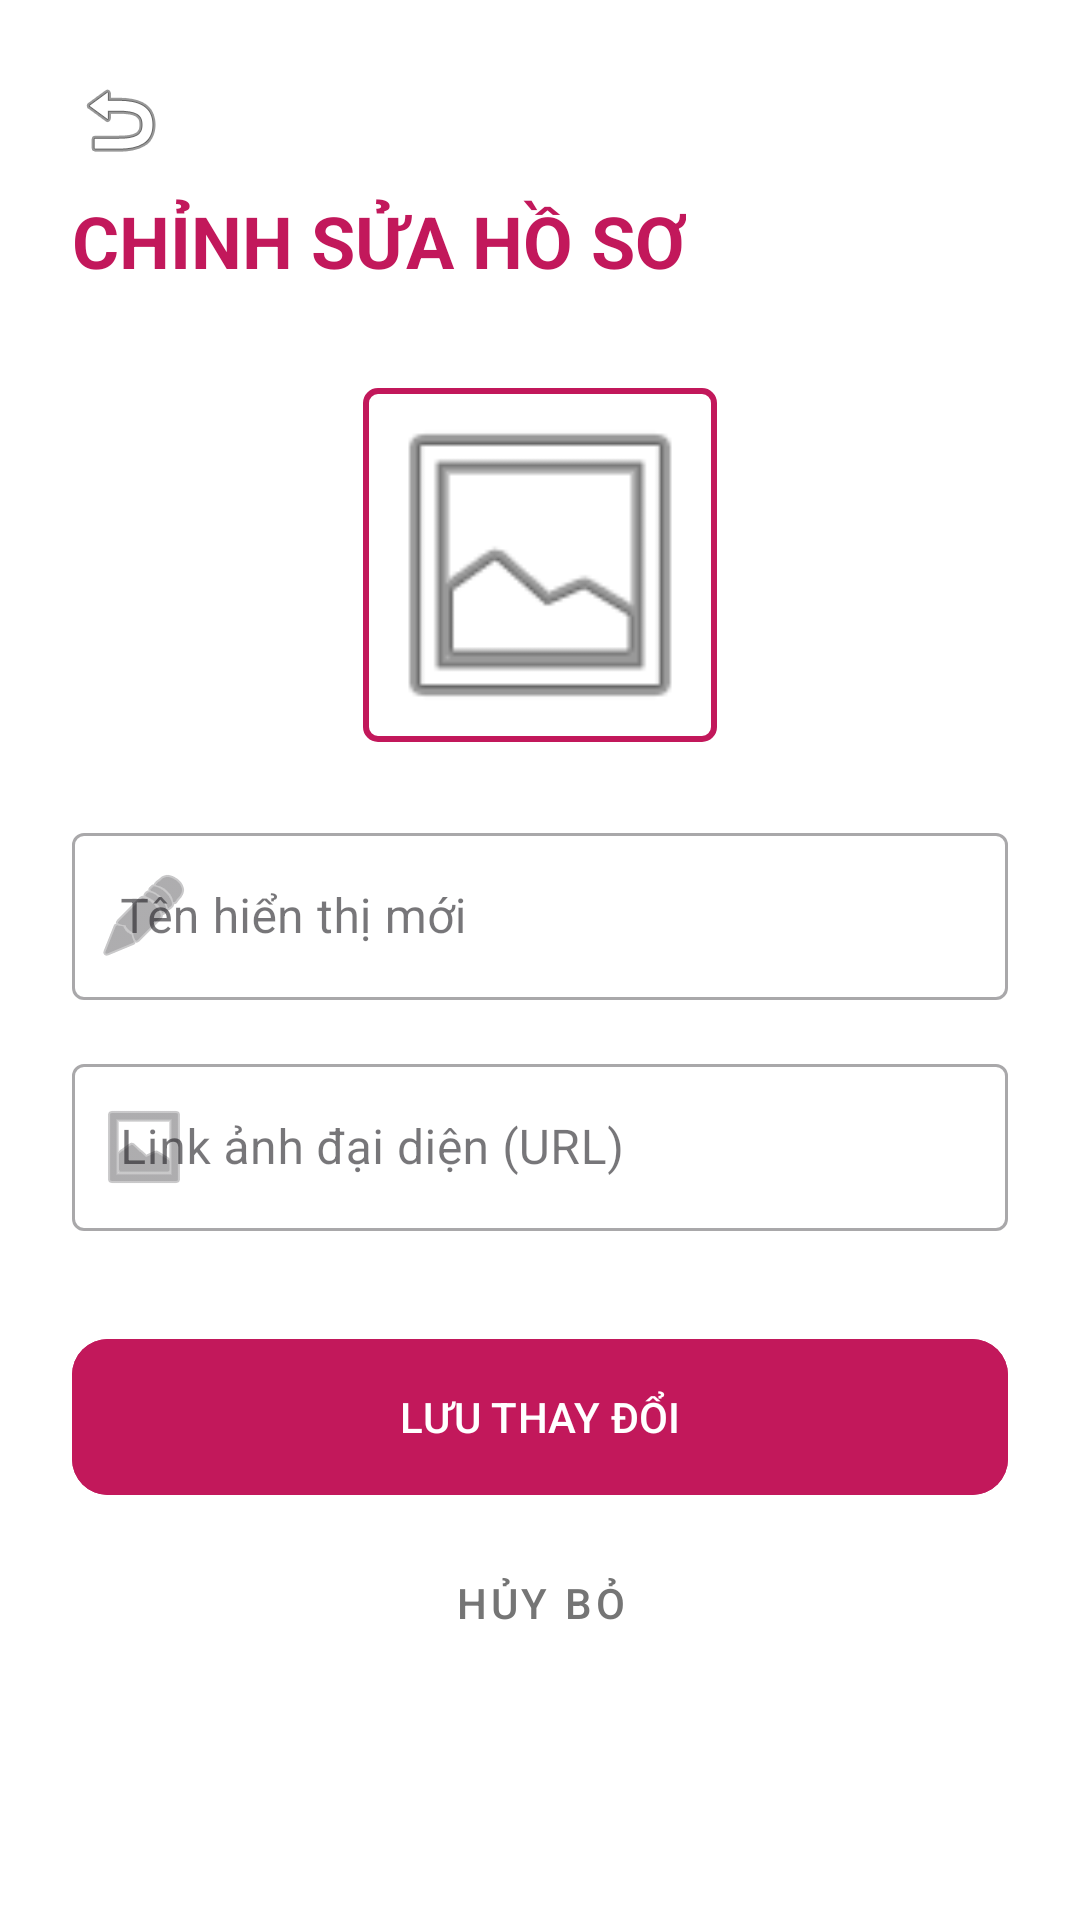

Screen size 1080×1920. Icon name, then its center in pixels as point (x, y):
gallery: point (540, 565)
Quay lại: point (121, 120)
